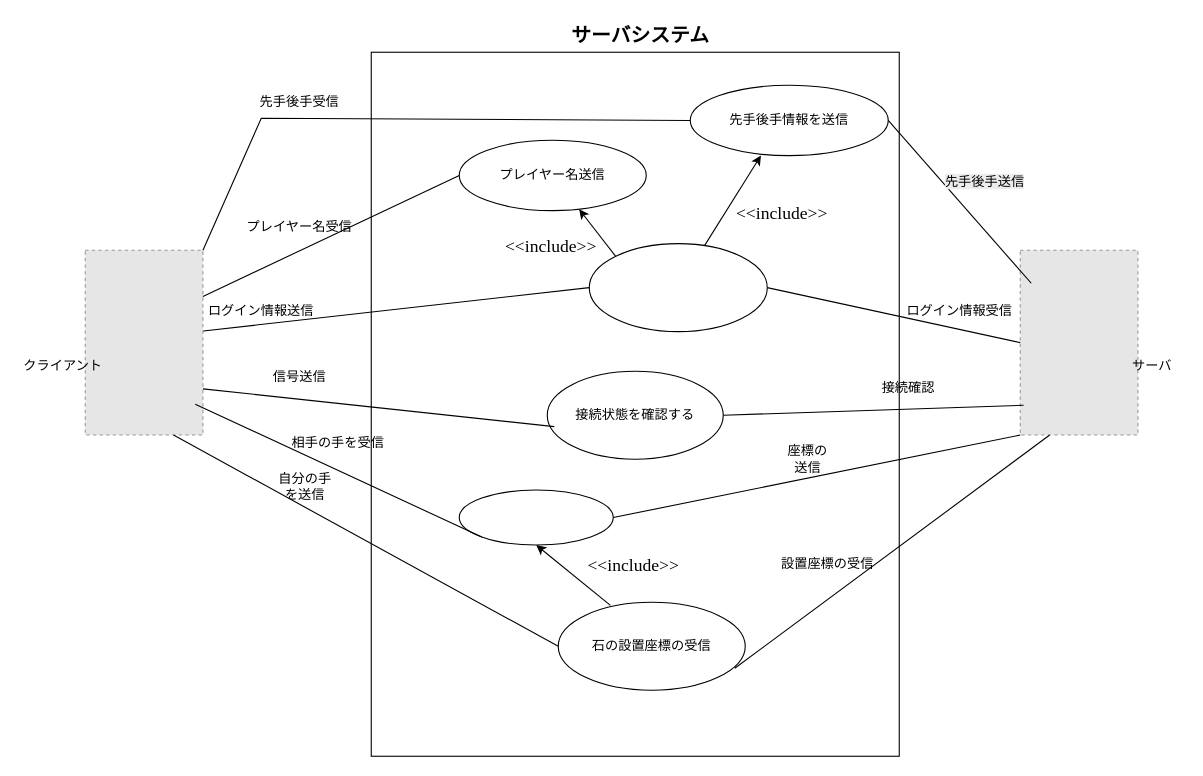
Image size: 1203x776. Some labels were removed from this diagram. Grey dashed boxes stand in for pictures. The shapes that lost their labels are listed below. From the top down, each one's box as (x1, y1, x2, y2) in pixels, then its label:
(588, 243, 767, 332): ログイン情報を保持
(458, 489, 613, 545): 座標の送信
